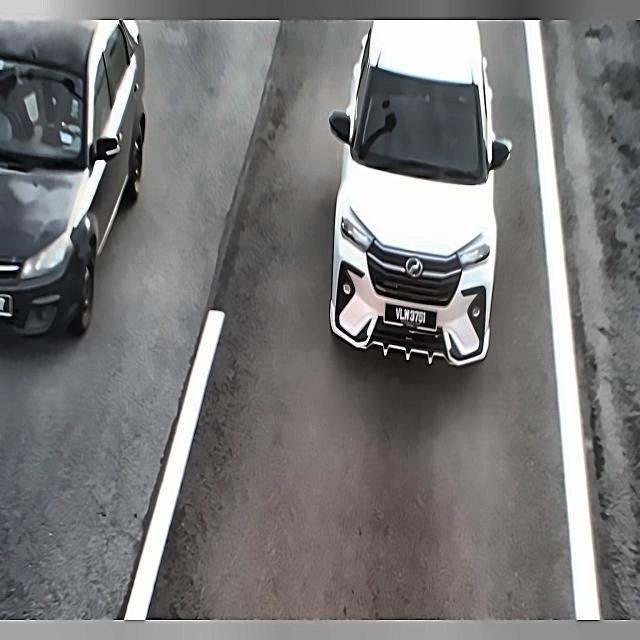car: (381, 294, 439, 335), (0, 292, 16, 323)
